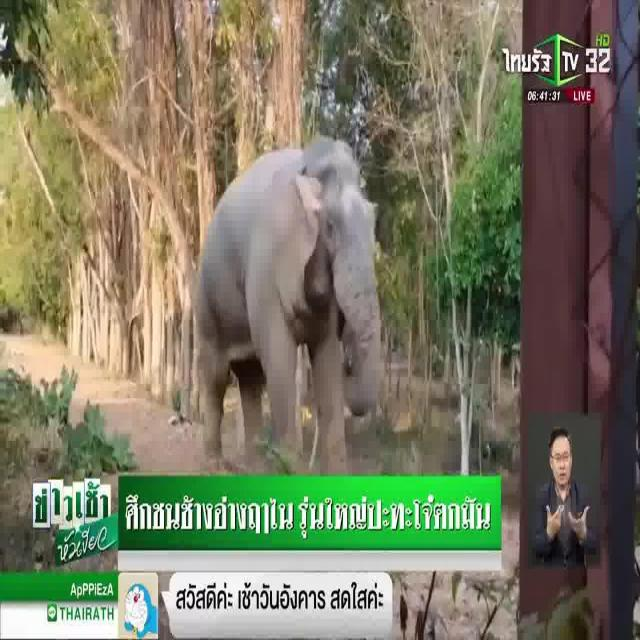Elephant: (195, 135, 381, 468)
